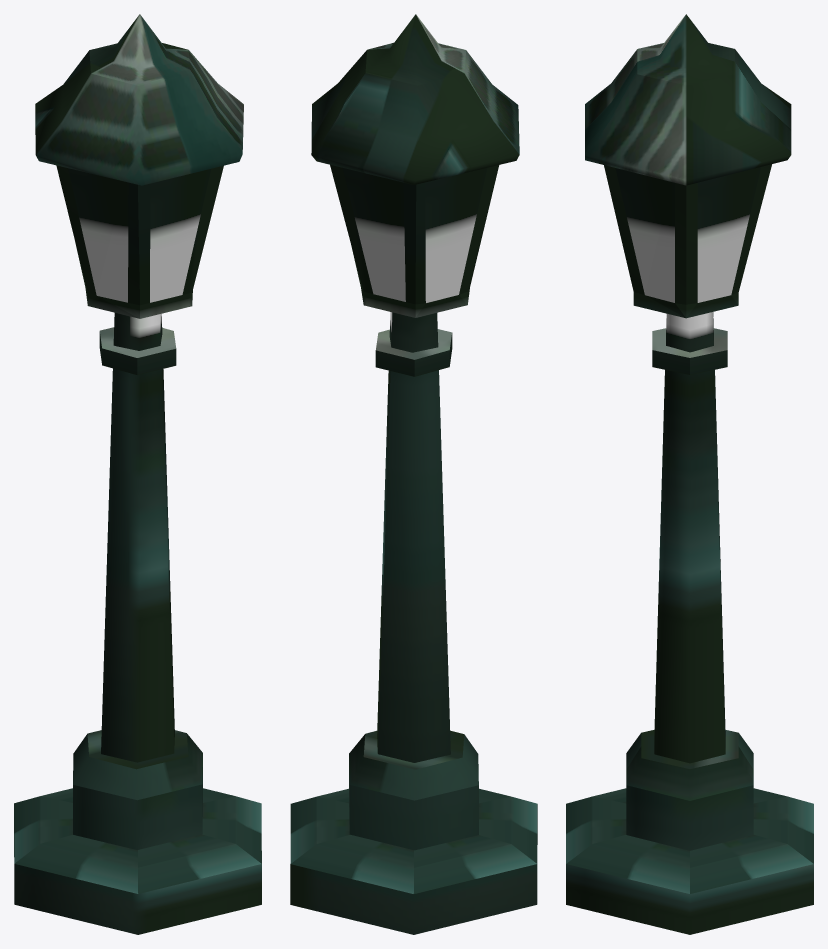
File: lamp_ac.obj
3 renders of one model, left to right at view 1: azimuth 30°, elevation 25°; view 2: azimuth 150°, elevation 25°; view 3: azimuth 270°, elevation 25°, orthographic.
Parts seen in each view (by area): view 1: vsn_mesh_0__mesh_0_.001; view 2: vsn_mesh_0__mesh_0_.001; view 3: vsn_mesh_0__mesh_0_.001.
Boxes of the visible parts, x1,y1,x2,y2 form: vsn_mesh_0__mesh_0_.001: (14, 14, 261, 934); vsn_mesh_0__mesh_0_.001: (290, 14, 537, 934); vsn_mesh_0__mesh_0_.001: (566, 14, 813, 934).
Bounding box in the file's own units: 1.38 × 4.61 × 1.2.
1 material, 1 textured.
